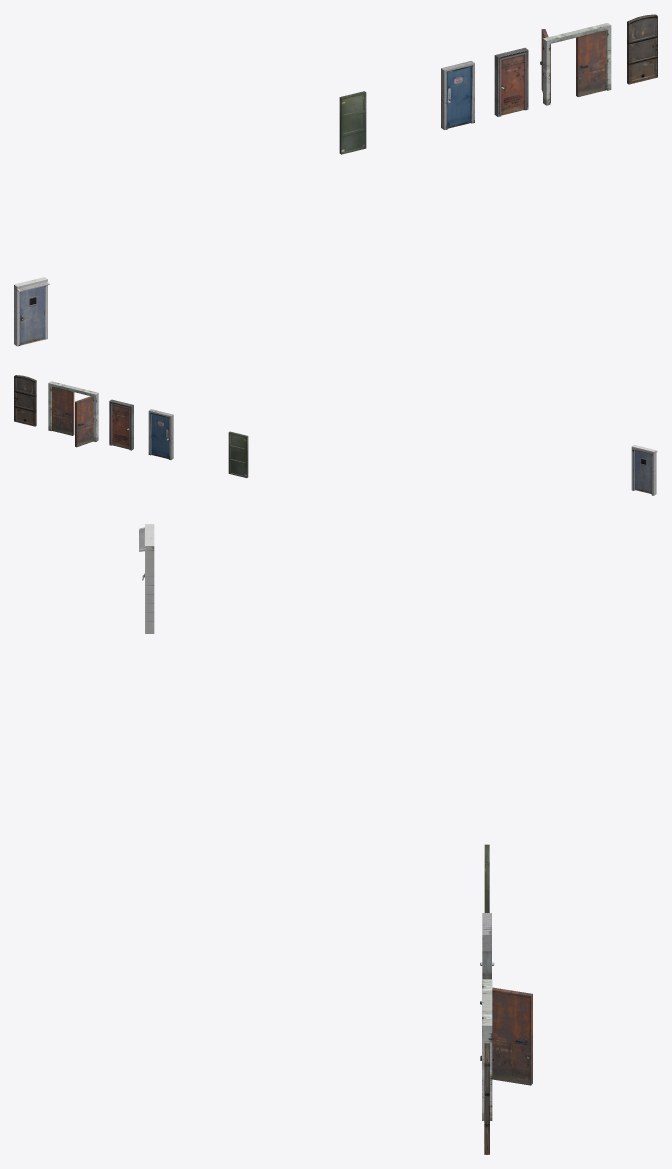
The model's file is gasStationEntrance.glb.
The picture shows the model from 3 angles, top to bottom: view 1: azimuth 30°, elevation 25°; view 2: azimuth 150°, elevation 25°; view 3: azimuth 270°, elevation 25°; orthographic projection. The views are drawn at different scales.
Parts seen in each view (by area): view 1: Metal Door_002, Metal Door_007, Metal Door_001, Metal Doorframe_005, Metal Door_004, Metal Door_003, Metal Door_005, Metal Doorframe_002, Metal Doorframe_003, Metal Doorframe_002.001; view 2: Metal Door_002, Metal Door_007, Metal Door_001, Metal Door_007.001, Metal Doorframe_005, Metal Door_003, Metal Door_005, Metal Door_004, Metal Doorframe_003, Metal Doorframe_002.001, Metal Doorframe_002; view 3: Metal Door_007.001, Metal Doorframe_003, Metal Doorframe_005.
Boxes of the visible parts, x1,y1,x2,y2 form: Metal Door_002: (627,14,657,84); Metal Door_007: (576,30,606,96); Metal Door_001: (339,91,366,154); Metal Doorframe_005: (543,23,611,105); Metal Door_004: (20,286,44,345); Metal Door_003: (501,54,524,115); Metal Door_005: (447,67,470,128); Metal Doorframe_002: (494,47,528,116); Metal Doorframe_003: (14,277,49,346); Metal Doorframe_002.001: (441,61,474,129); Metal Door_002: (14,375,36,426); Metal Door_007: (52,387,74,435); Metal Door_001: (228,431,248,477); Metal Door_007.001: (75,396,93,447); Metal Doorframe_005: (48,381,98,441); Metal Door_003: (112,404,129,449); Metal Door_005: (152,414,168,458); Metal Door_004: (635,450,651,493); Metal Doorframe_003: (631,445,657,495); Metal Doorframe_002.001: (148,409,173,459); Metal Doorframe_002: (109,399,133,450); Metal Door_007.001: (492,987,532,1085); Metal Doorframe_003: (139,524,154,633); Metal Doorframe_005: (482,979,492,1120).
Bounding box in the file's own units: 26.48 × 2.16 × 8.12.
1 material, 1 textured.
